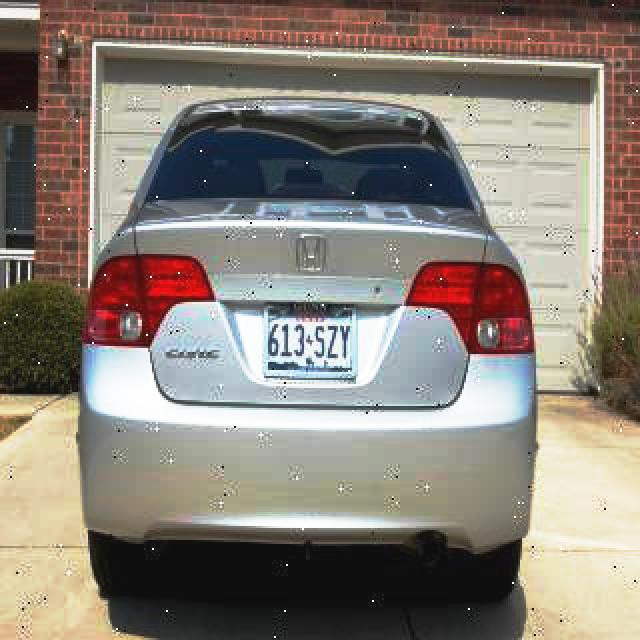license_plate: (264, 305, 359, 380)
